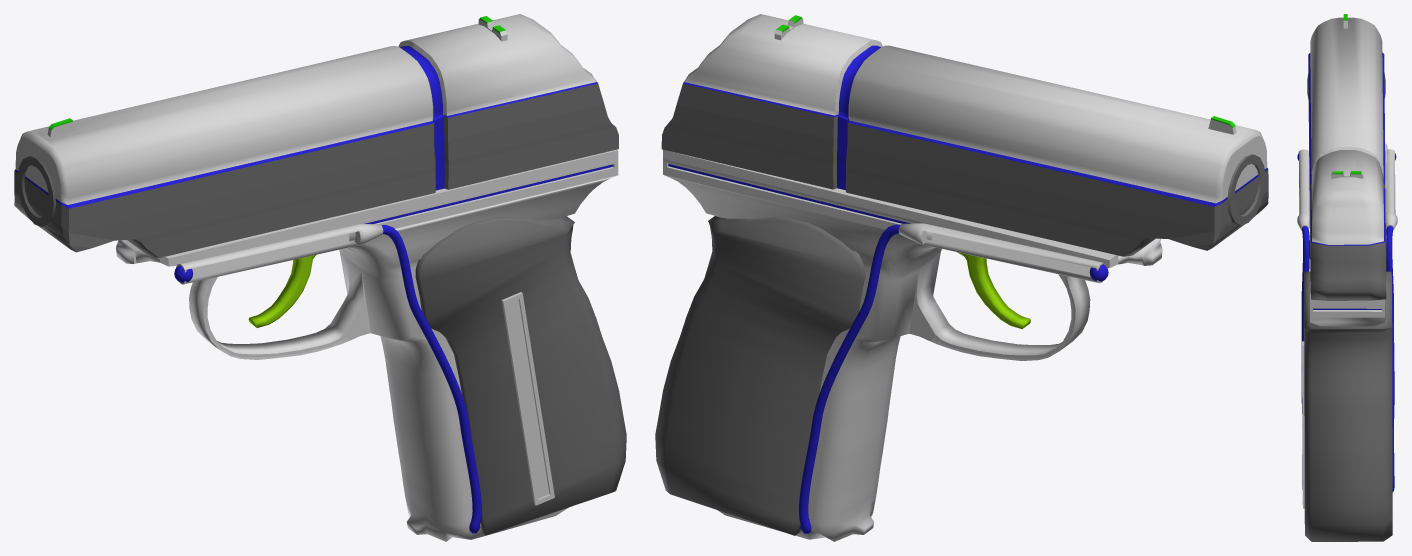
The model's file is makarov_world.fbx.
3 views of the same model, side by side, from view 1: azimuth 30°, elevation 25°; view 2: azimuth 150°, elevation 25°; view 3: azimuth 270°, elevation 25° (orthographic). The views are drawn at different scales.
Parts seen in each view (by area): view 1: Makarov.001; view 2: Makarov.001; view 3: Makarov.001.
Boxes of the visible parts, x1,y1,x2,y2 form: Makarov.001: (14, 14, 626, 541); Makarov.001: (655, 14, 1268, 541); Makarov.001: (1297, 14, 1397, 541).
Size of the model in its own units: 279 by 234 by 60.31.
